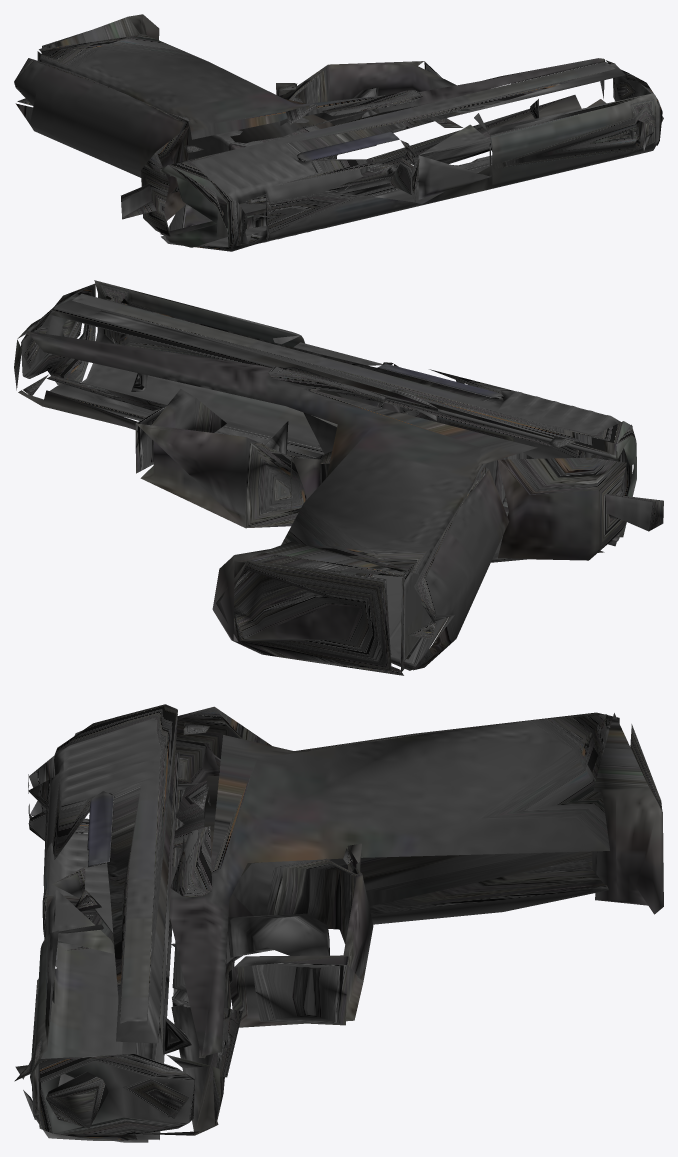
The picture shows the model from 3 angles, top to bottom: view 1: azimuth 30°, elevation 25°; view 2: azimuth 150°, elevation 25°; view 3: azimuth 270°, elevation 25°; orthographic projection. The views are drawn at different scales.
Visible parts, largest first — view 1: p_p2000; view 2: p_p2000; view 3: p_p2000.
Boxes of the visible parts, left/top/right/bottom form: p_p2000: left=14, top=14, right=663, bottom=251; p_p2000: left=14, top=280, right=663, bottom=675; p_p2000: left=14, top=704, right=663, bottom=1142.
Bounding box in the file's own units: 0.3028 × 0.0596 × 0.2242.
Materials: 1 (1 with a texture image).
